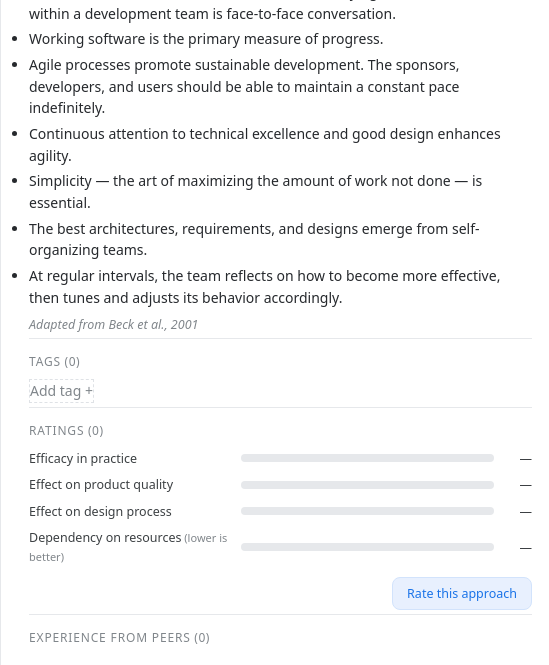
Test: tags › surfaces the server own message when a write fails
The image size is (549, 665).
(page scrolled)
Click the button "Add tag +" at (62, 391), box [29,380,94,403]
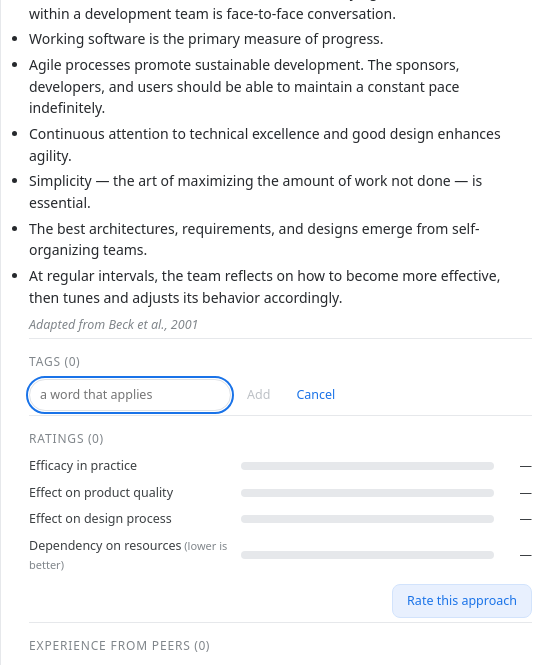
Type "x" into the field named "New tag" at (130, 395), box [29,380,231,411]
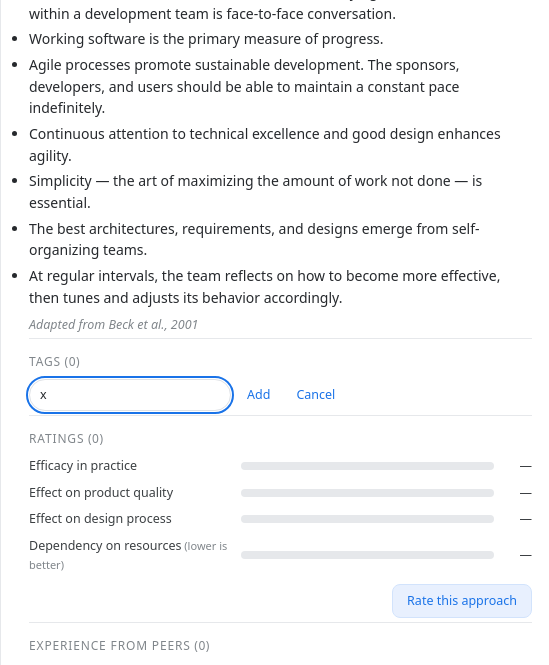
Click the button "Add" at (259, 395), box [237,380,280,410]
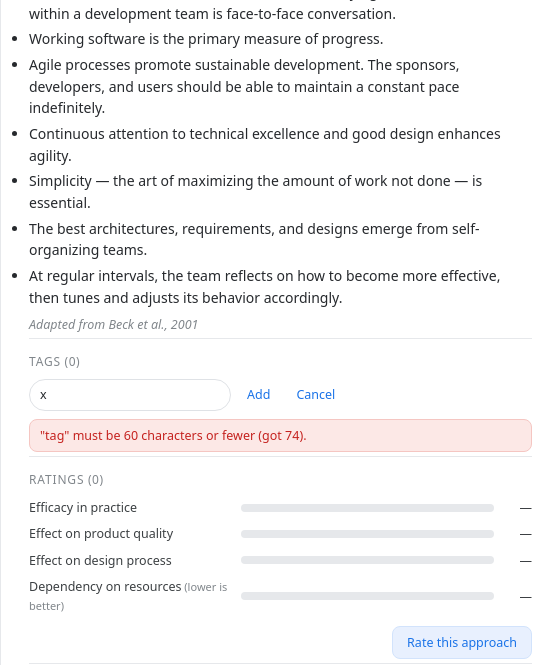
expect the message "\"tag\" must be 60 characters or fewer (got 74)." is shown: met, box [29,419,532,452]
expect the message reads "\"tag\" must be 60 characters or fewer (got 74).": met, box [40,427,306,444]
